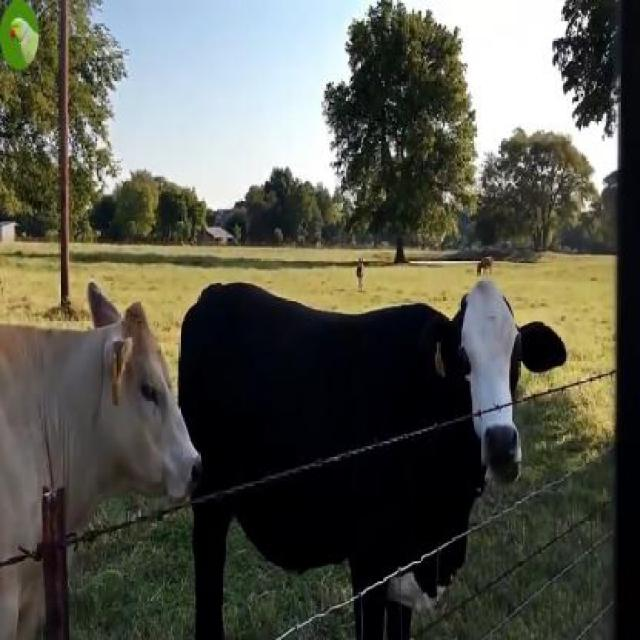Cow: (177, 283, 565, 639)
